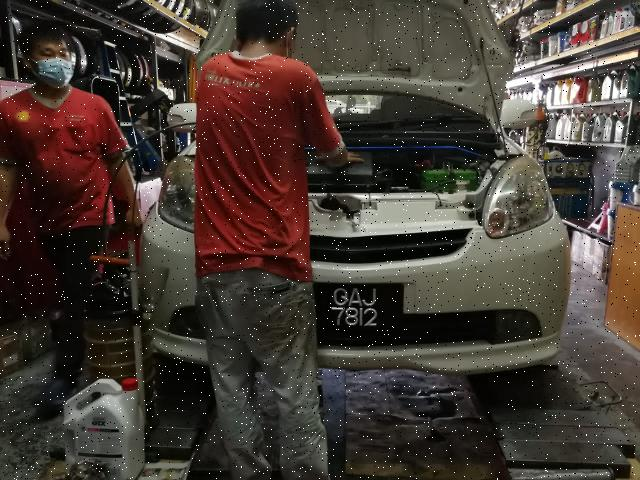License_Plate: (314, 283, 404, 339)
car: (137, 2, 574, 379)
